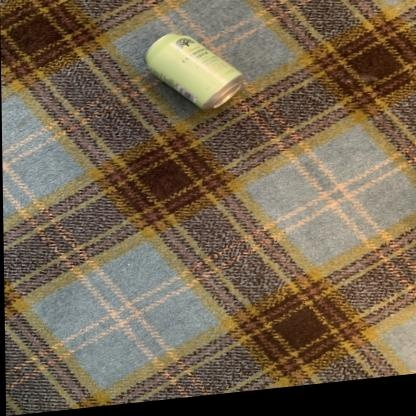trash: (145, 34, 242, 109)
